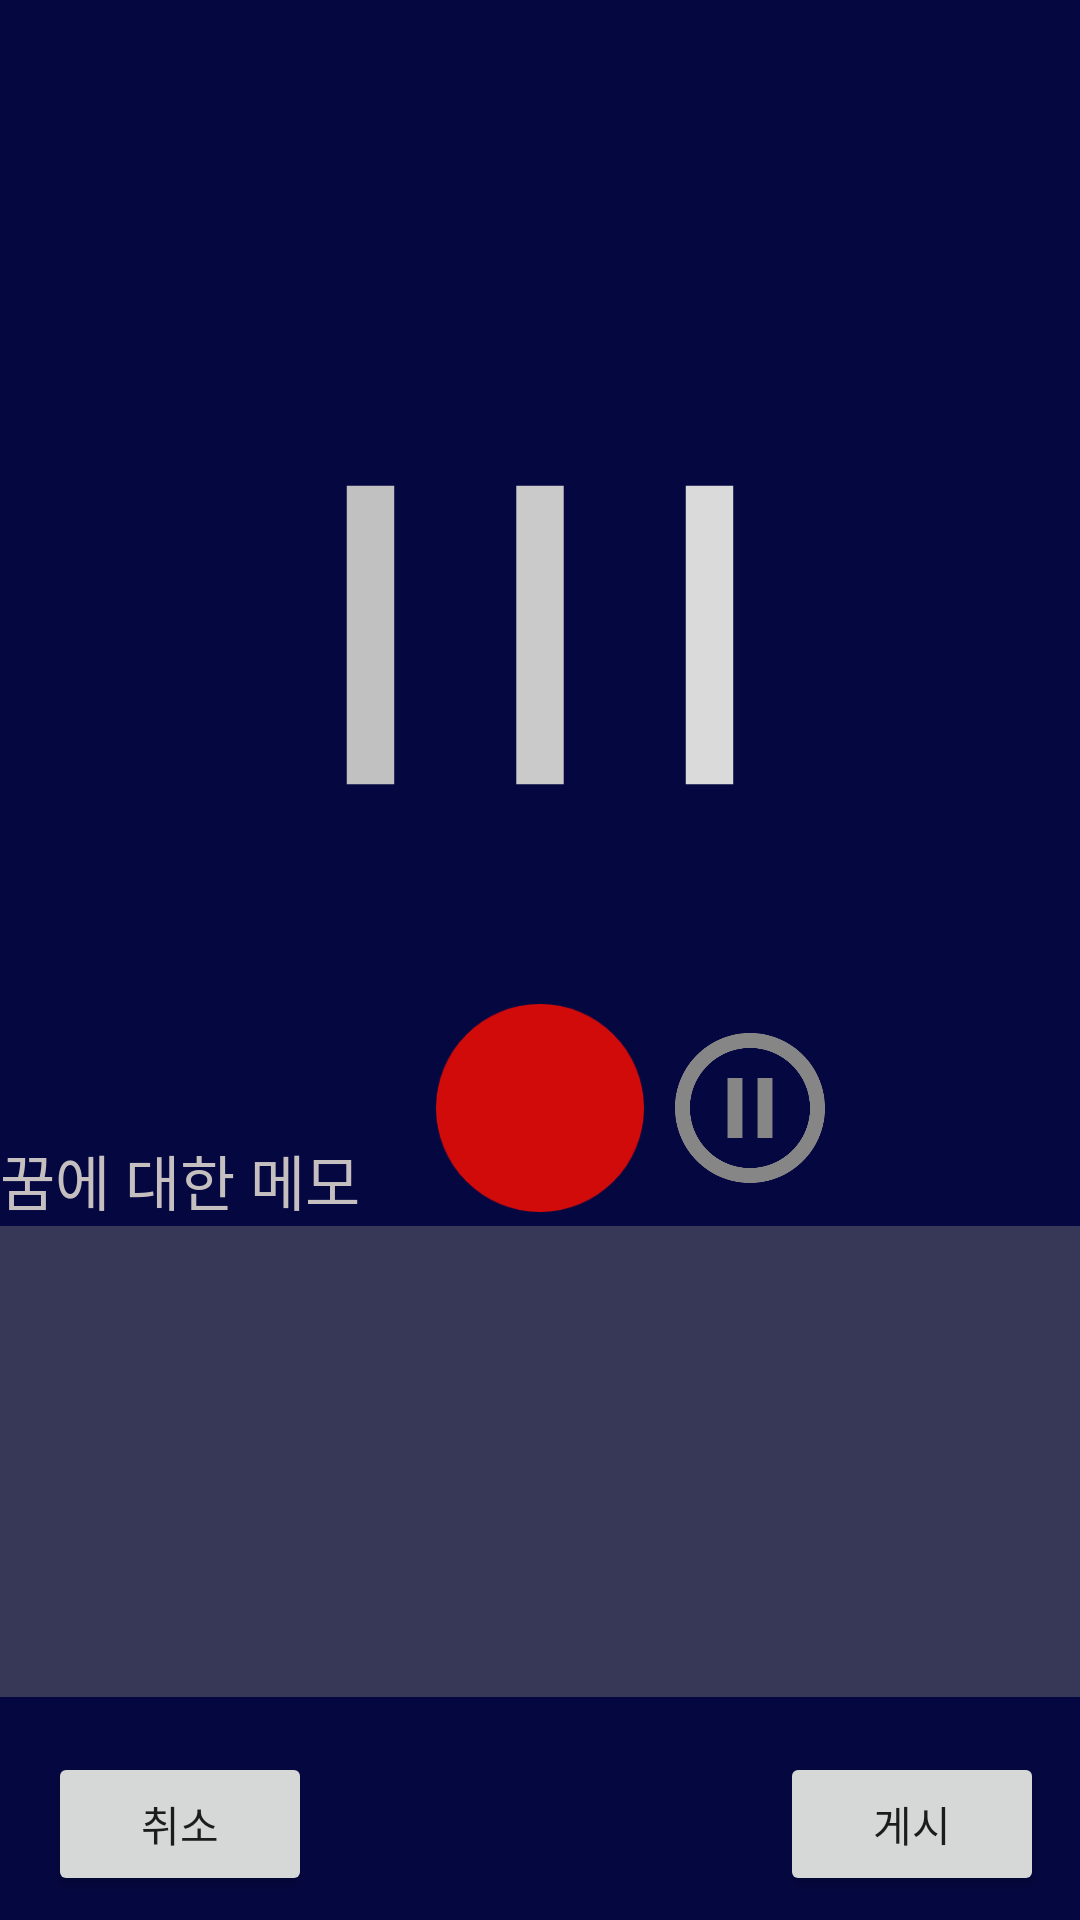

Locate icon controls on the screen. Image size 1080w x 1920h, boxes as (x1, y1, x2, y2).
audio pause: (675, 1033, 825, 1183)
recording: (436, 1004, 644, 1212)
